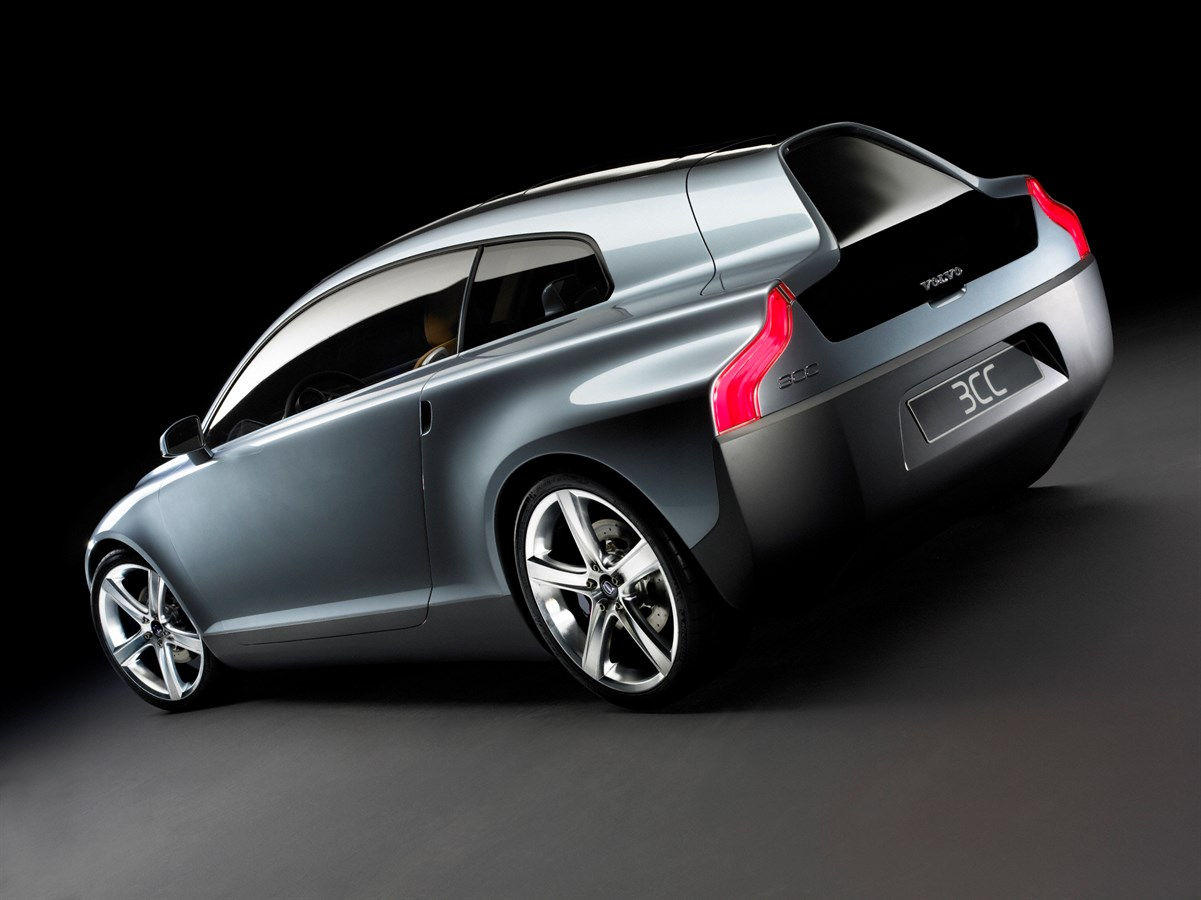other: (104, 123, 1132, 740)
